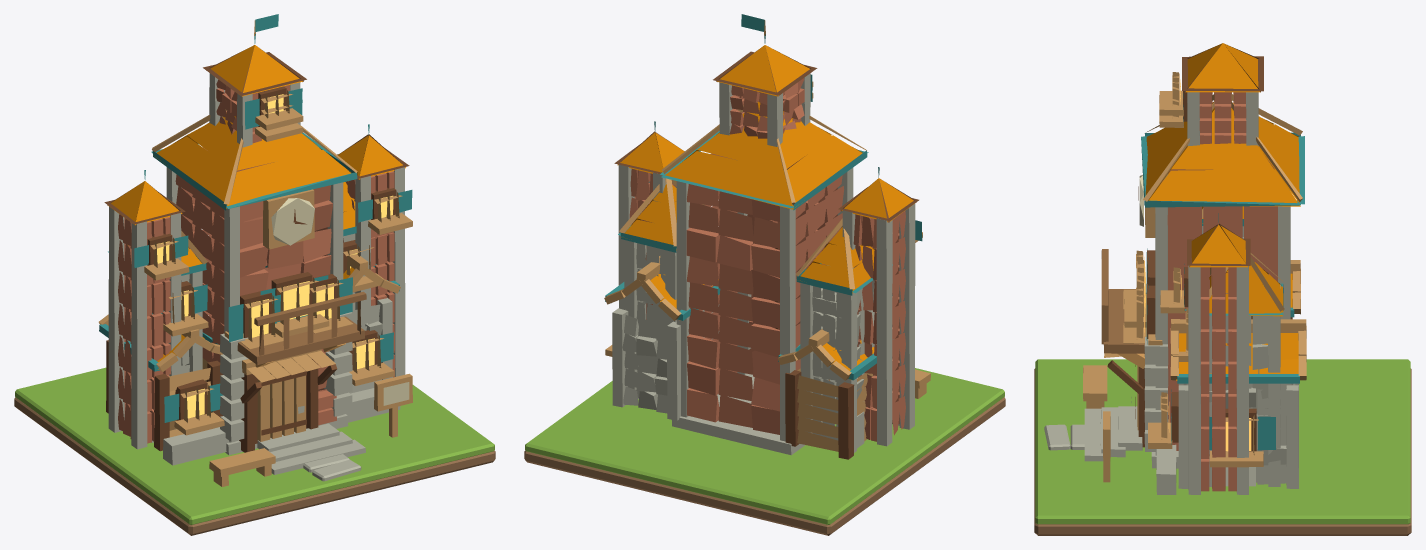
The model's file is town_hall_l10_active_LOD2.glb.
3 views of the same model, side by side, from view 1: azimuth 30°, elevation 25°; view 2: azimuth 150°, elevation 25°; view 3: azimuth 270°, elevation 25° (orthographic). The views are drawn at different scales.
Visible parts, largest first — view 1: town_hall_l10_active_foundation.001, town_hall_l10_active_grass_tile.001, town_hall_l10_active_earth_tile.001, town_hall_l10_active_path_stone.005; view 2: town_hall_l10_active_foundation.001, town_hall_l10_active_grass_tile.001, town_hall_l10_active_earth_tile.001; view 3: town_hall_l10_active_foundation.001, town_hall_l10_active_grass_tile.001, town_hall_l10_active_earth_tile.001, town_hall_l10_active_path_stone.005.
Boxes of the visible parts, x1,y1,x2,y2 form: town_hall_l10_active_foundation.001: [98, 14, 412, 486]; town_hall_l10_active_grass_tile.001: [15, 367, 494, 524]; town_hall_l10_active_earth_tile.001: [14, 397, 495, 535]; town_hall_l10_active_path_stone.005: [312, 459, 361, 481]; town_hall_l10_active_foundation.001: [604, 14, 930, 459]; town_hall_l10_active_grass_tile.001: [525, 368, 1004, 524]; town_hall_l10_active_earth_tile.001: [524, 397, 1005, 535]; town_hall_l10_active_foundation.001: [1083, 43, 1306, 494]; town_hall_l10_active_grass_tile.001: [1035, 359, 1410, 524]; town_hall_l10_active_earth_tile.001: [1034, 368, 1411, 535]; town_hall_l10_active_path_stone.005: [1044, 424, 1070, 450].
Size of the model in its own units: 3.6 by 4.68 by 3.6.
